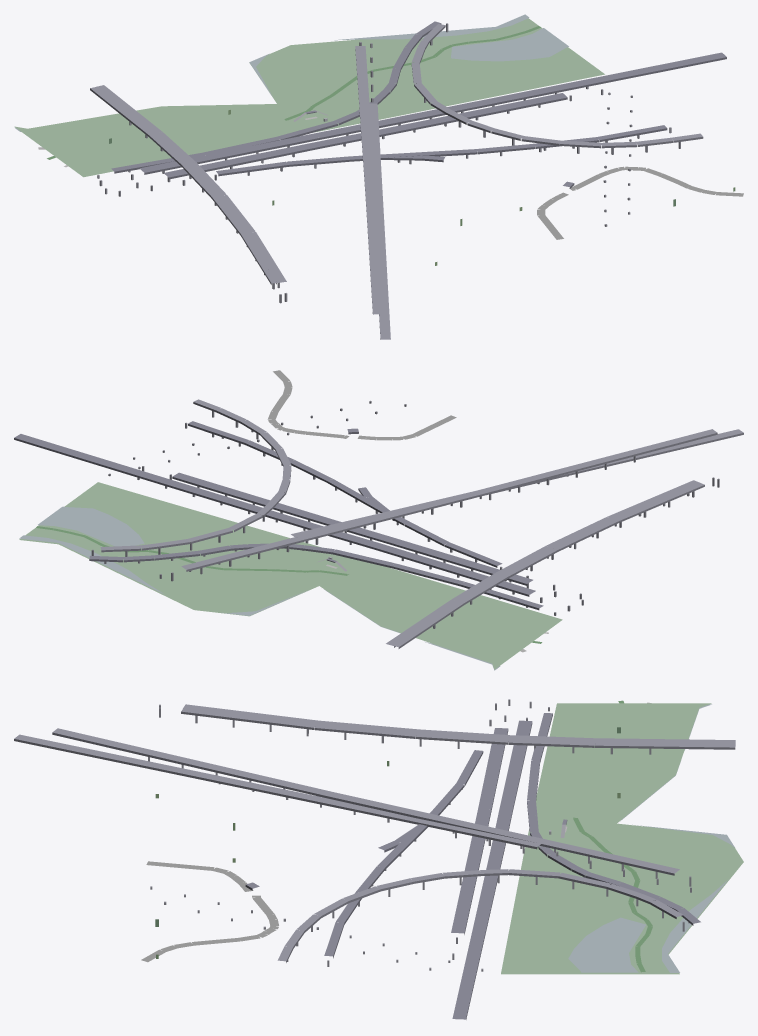
3 renders of one model, top to bottom at view 1: azimuth 30°, elevation 25°; view 2: azimuth 150°, elevation 25°; view 3: azimuth 270°, elevation 25°, orthographic. The views are drawn at different scales.
Bounding box in the file's own units: 609 × 13.18 × 569.
